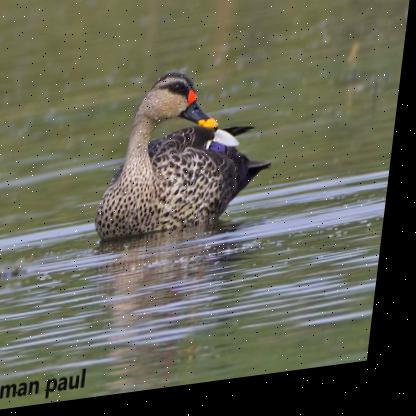Burung: (99, 65, 287, 244)
